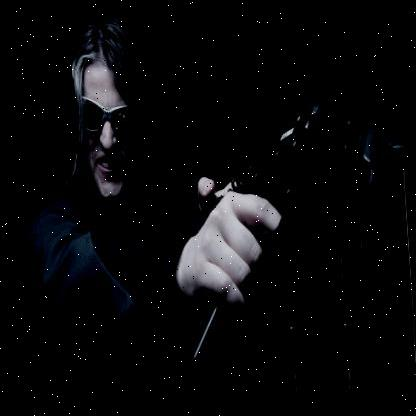rifle: (161, 81, 416, 373)
